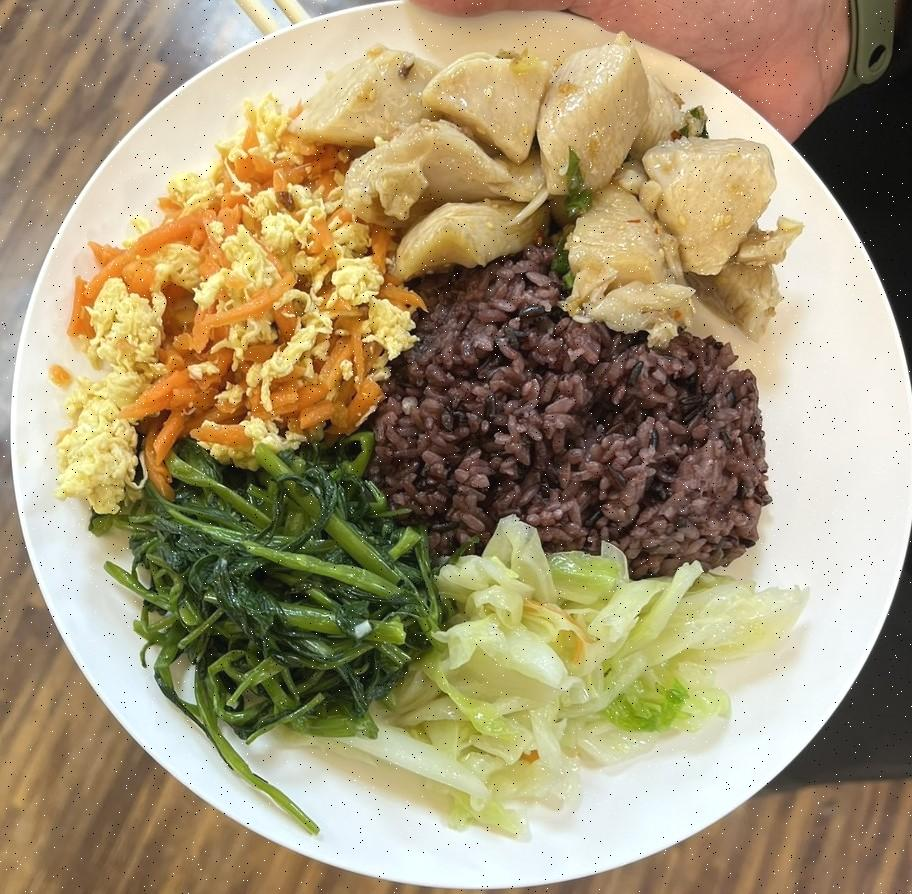plate: (20, 6, 912, 894)
purple rice: (366, 266, 768, 566)
scallion chicken: (300, 42, 794, 346)
side dish: (365, 526, 816, 826), (54, 113, 390, 500), (117, 450, 436, 731)
